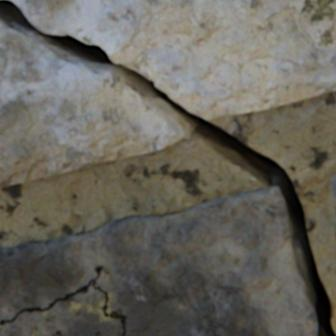brick: (0, 185, 316, 335), (0, 280, 123, 335), (329, 173, 335, 207)
broken_brick: (11, 0, 335, 119), (0, 18, 190, 186)
crack: (0, 0, 335, 335), (0, 263, 126, 335)
